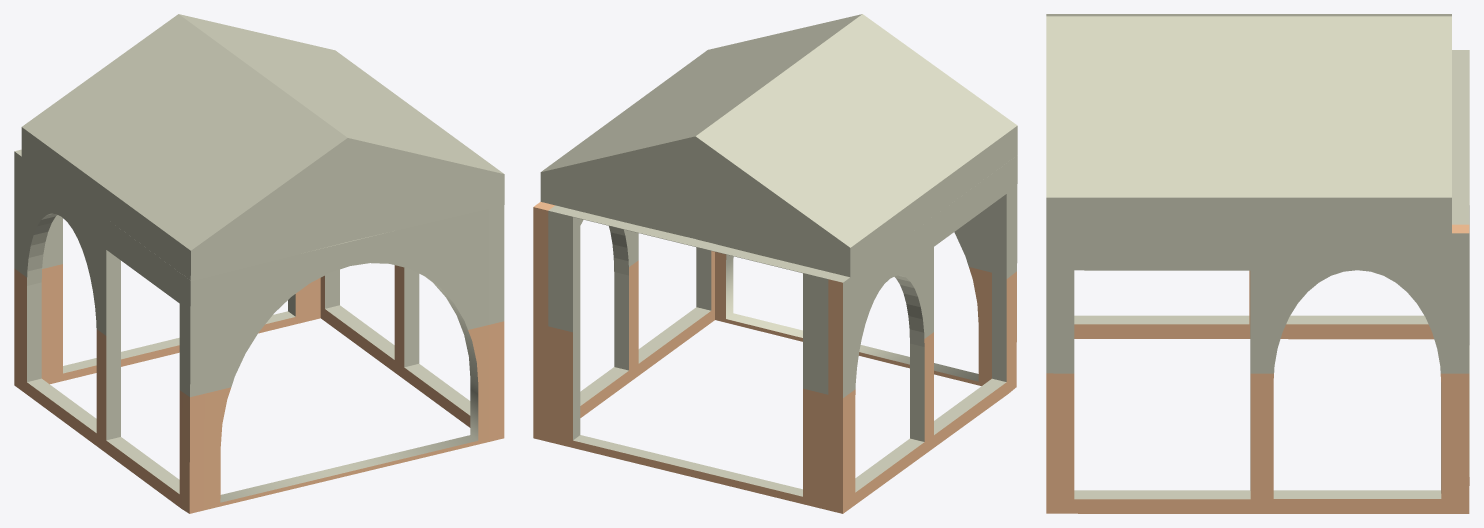
Rendered from paredE2.glb.
The picture shows the model from 3 angles, left to right: view 1: azimuth 30°, elevation 25°; view 2: azimuth 150°, elevation 25°; view 3: azimuth 270°, elevation 25°; orthographic projection. The views are drawn at different scales.
Parts seen in each view (by area): view 1: arco4; view 2: arco4; view 3: arco4.
Part boxes in pixels (x1,y1,x2,y2): arco4: [14, 14, 504, 513]; arco4: [533, 14, 1017, 513]; arco4: [1046, 14, 1469, 513].
Size of the model in its own units: 67.59 by 69.84 by 65.88.
